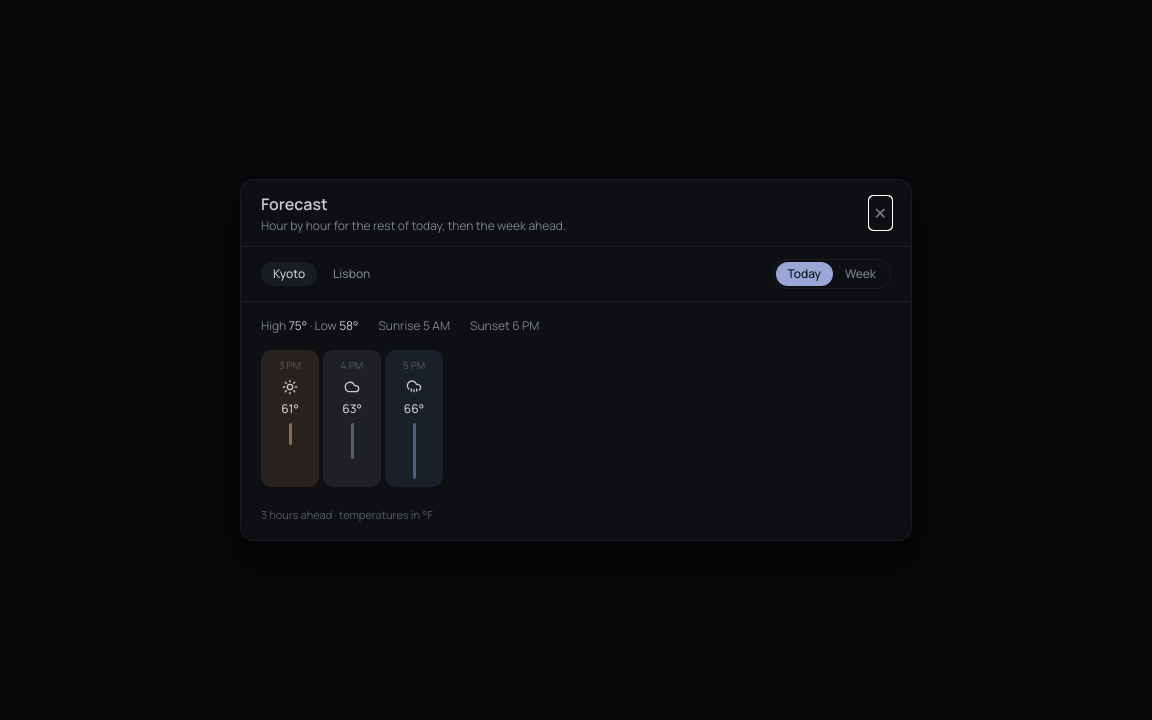
Test: WeatherForecastModal › says the week is missing rather than drawing an empty frame
The image size is (1152, 720).
Click the button "Week" at [860, 274], box [833, 262, 888, 286]
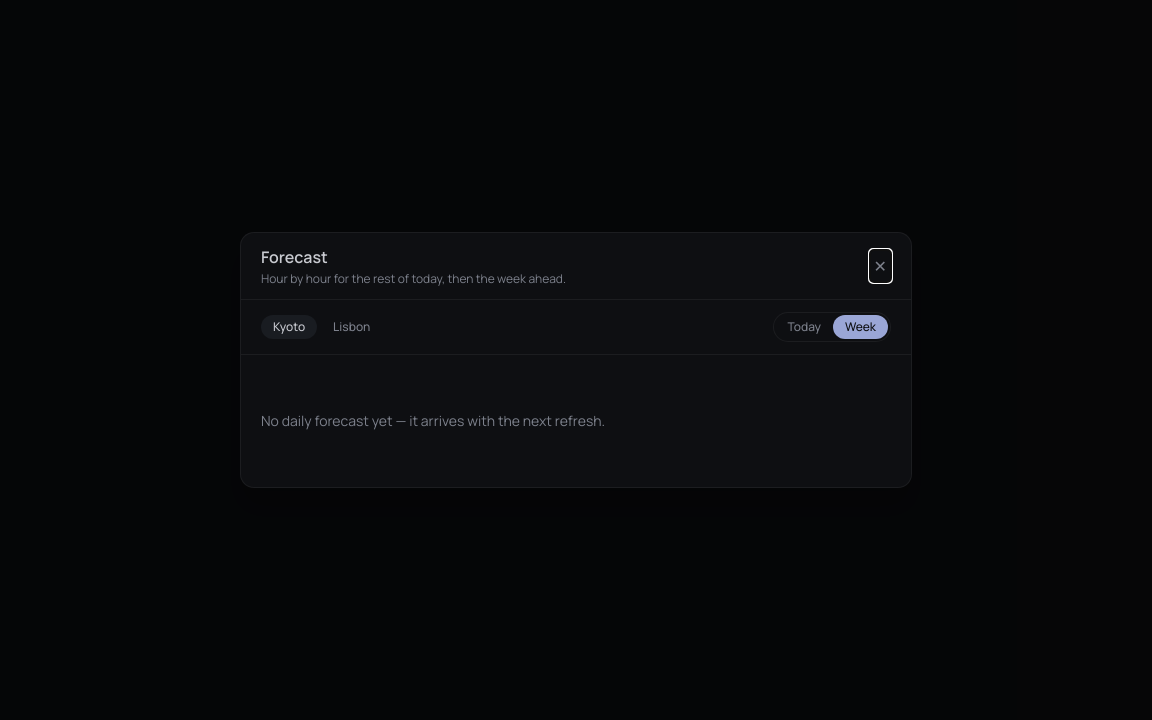
Expected: the text "No daily forecast yet — it arrives with the next refresh." is shown, [261, 411, 605, 430]
